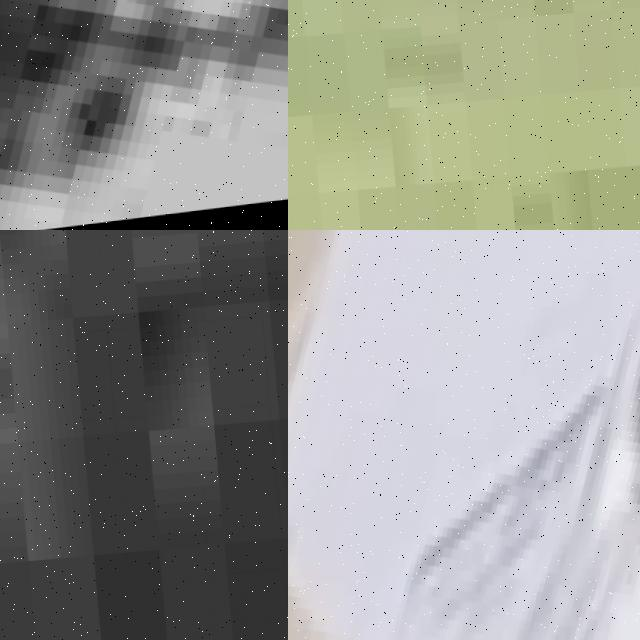0: (0, 0, 288, 230)
drone: (288, 230, 640, 640)
